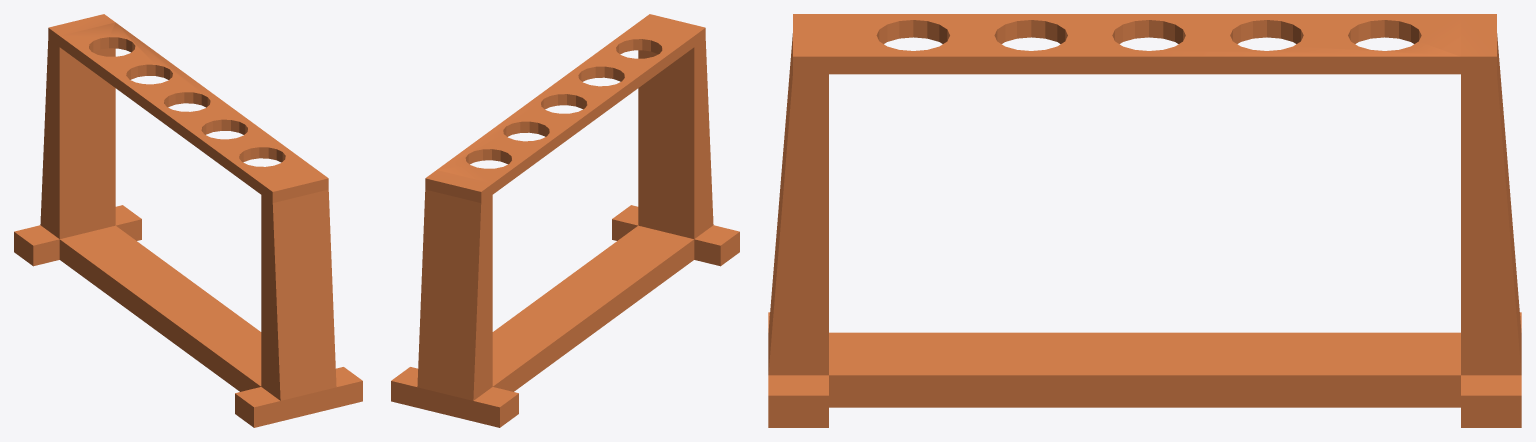
Rendered from Stand.fbx.
The picture shows the model from 3 angles, left to right: view 1: azimuth 30°, elevation 25°; view 2: azimuth 150°, elevation 25°; view 3: azimuth 270°, elevation 25°; orthographic projection. The views are drawn at different scales.
Parts seen in each view (by area): view 1: StojakNaProbówki; view 2: StojakNaProbówki; view 3: StojakNaProbówki.
Part boxes in pixels (<box>): StojakNaProbówki: <box>14,14,362,427</box>; StojakNaProbówki: <box>391,14,739,427</box>; StojakNaProbówki: <box>768,14,1521,427</box>.
Bounding box in the file's own units: 10.05 × 19.75 × 38.41.
